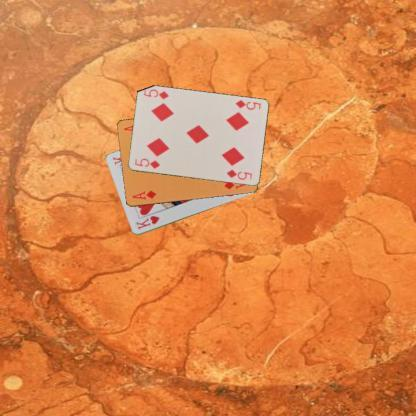5d: (232, 98, 262, 112), (132, 156, 161, 170)
Ad: (129, 188, 158, 202)
Kh: (134, 213, 160, 231)
